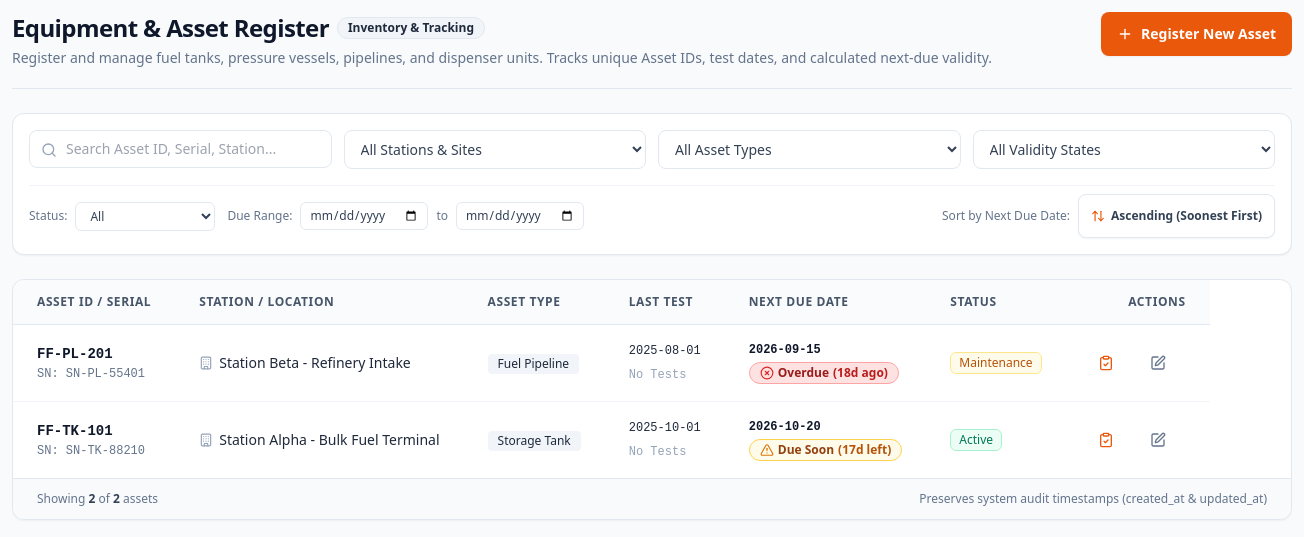
Test case: AssetManagementView Component › filters assets dynamically when typing in search bar
Type "Pipeline" into the field with placeholder "Search Asset ID, Serial, Station...". click: (180, 149)
box: top-left (29, 130), bottom-right (332, 168)
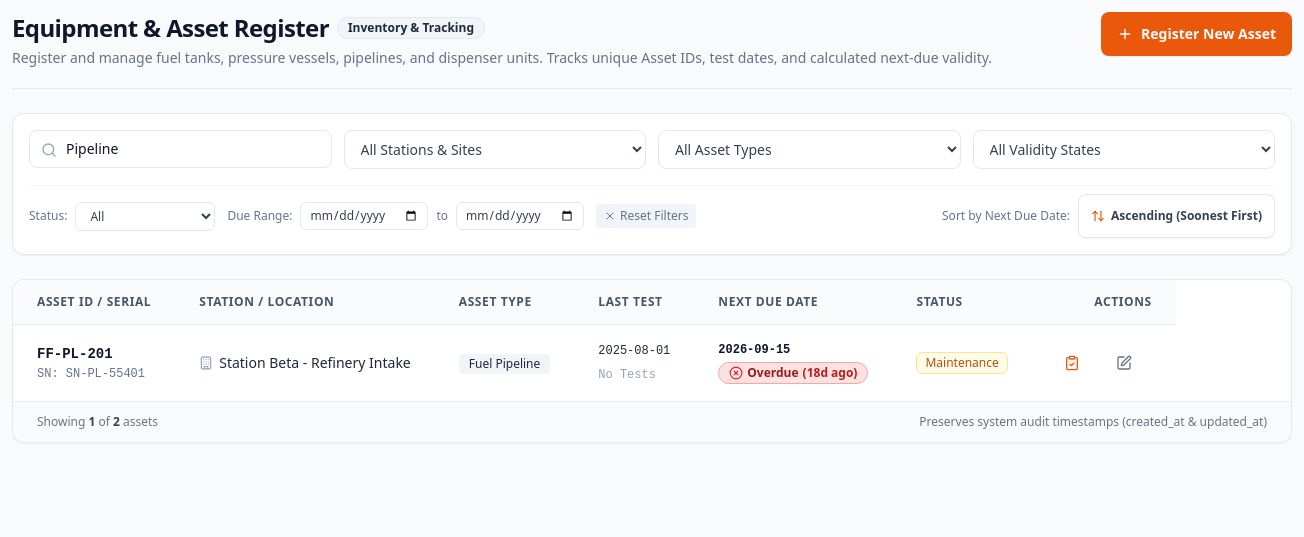
Check: the text "FF-PL-201" is shown, box top-left (37, 346), bottom-right (113, 362)
Check: the text "FF-TK-101" is gone
